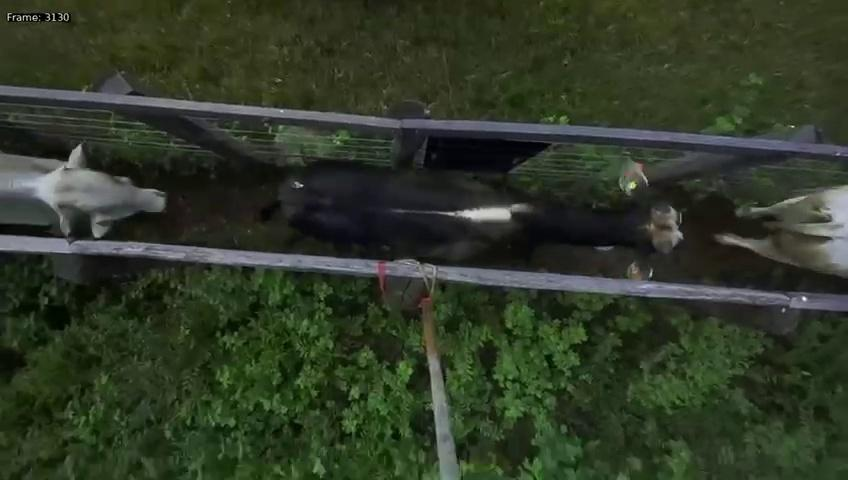cattle: (278, 145, 693, 286), (1, 132, 168, 240)
